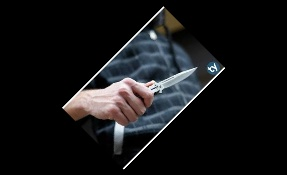k1: (152, 64, 199, 95)
